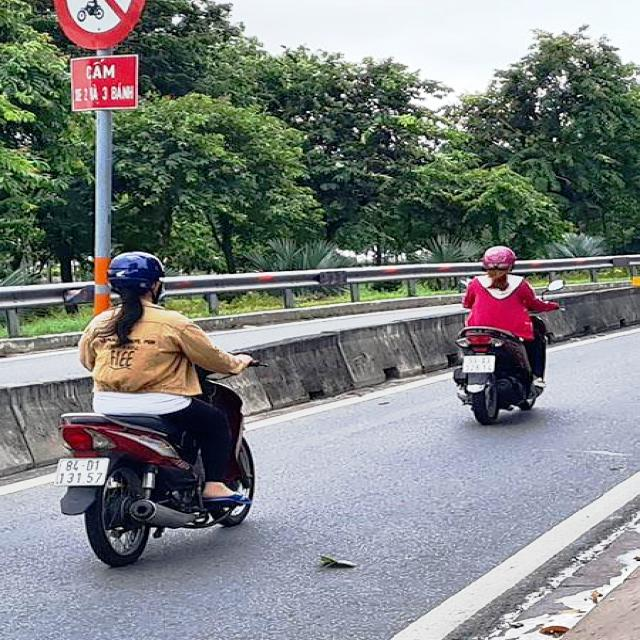license_plate: (55, 459, 110, 485)
